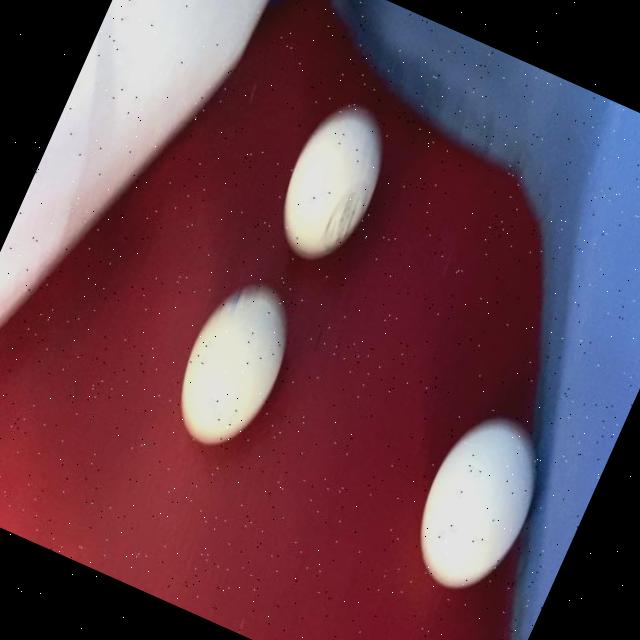ping-pong-ball: (390, 390, 568, 608), (154, 256, 324, 469), (255, 86, 408, 274)
